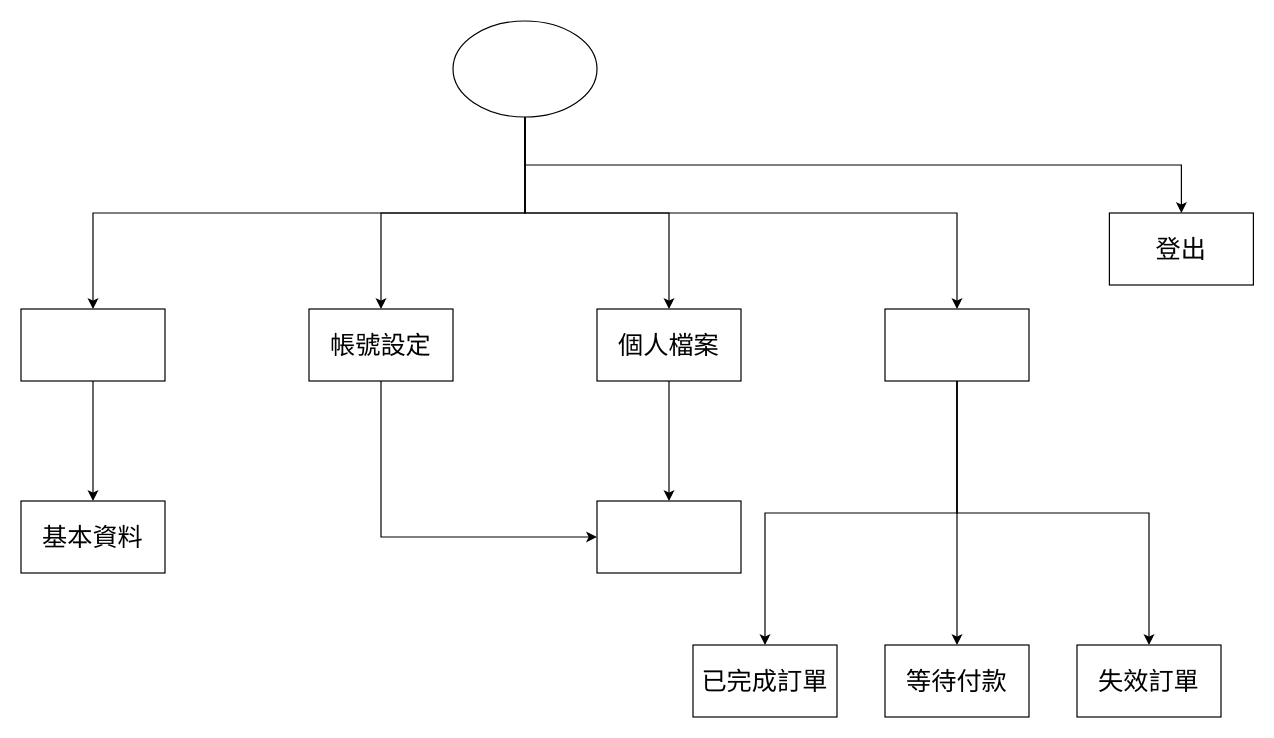
The diagram is 1274 pixels wide and 738 high, and some of its shapes have lost their labels. The shapes that lost their labels are listed below. From the top down, each one's box as (x1, y1, x2, y2) in pixels, then its label:
(452, 20, 597, 117): 登入
(20, 308, 165, 381): 註冊
(884, 308, 1029, 381): 訂單記錄
(596, 500, 741, 573): 修改個人檔案
